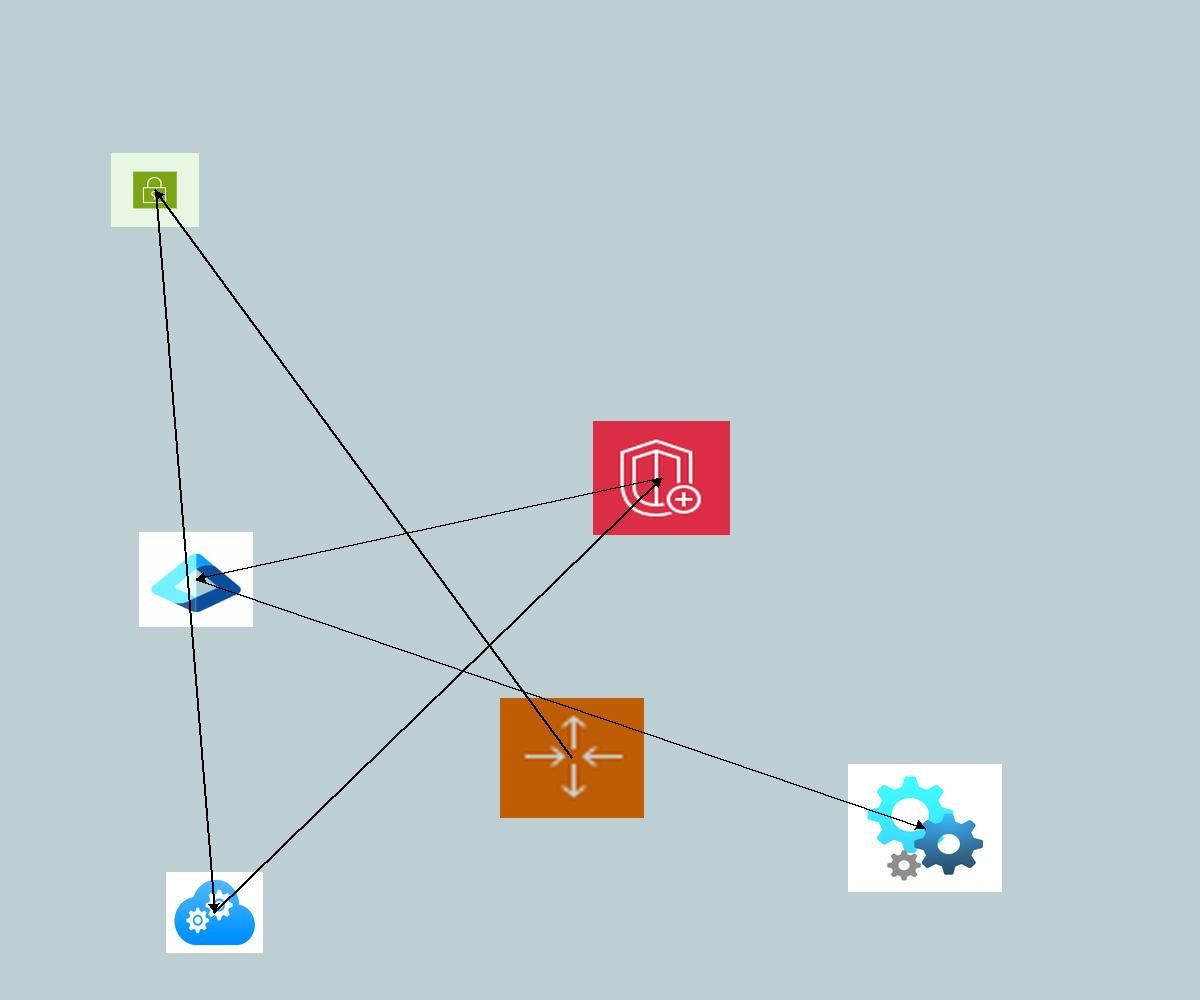AWS-Public-subnet: (111, 153, 199, 227)
AWS-Scaling-group: (500, 698, 644, 818)
AWS-Shield: (593, 421, 730, 535)
Azure_api: (848, 764, 1002, 892)
Azure_cloud_services: (166, 872, 263, 953)
Azure_microsoft_entra: (139, 532, 253, 627)
